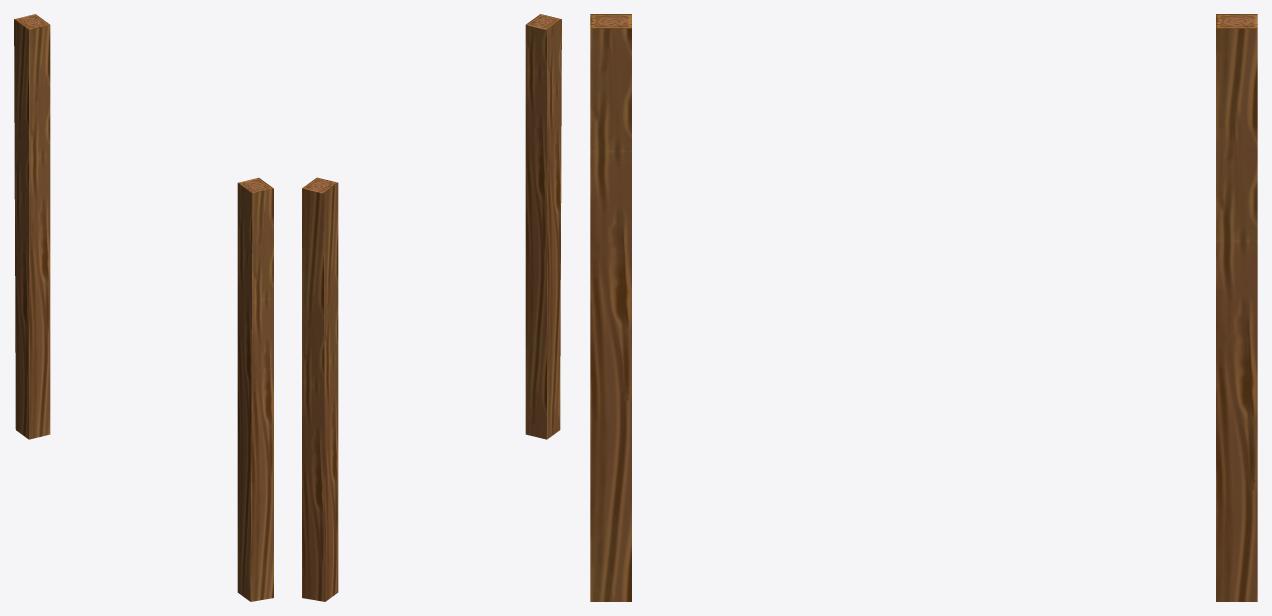
3 renders of one model, left to right at view 1: azimuth 30°, elevation 25°; view 2: azimuth 150°, elevation 25°; view 3: azimuth 270°, elevation 25°, orthographic. The views are drawn at different scales.
Parts seen in each view (by area): view 1: Cube.1192; view 2: Cube.1192; view 3: Cube.1192.
Boxes of the visible parts, x1,y1,x2,y2 form: Cube.1192: (14, 14, 273, 601); Cube.1192: (302, 14, 561, 601); Cube.1192: (590, 14, 1257, 601).
Bounding box in the file's own units: 43.13 × 784 × 827.
1 material, 1 textured.
